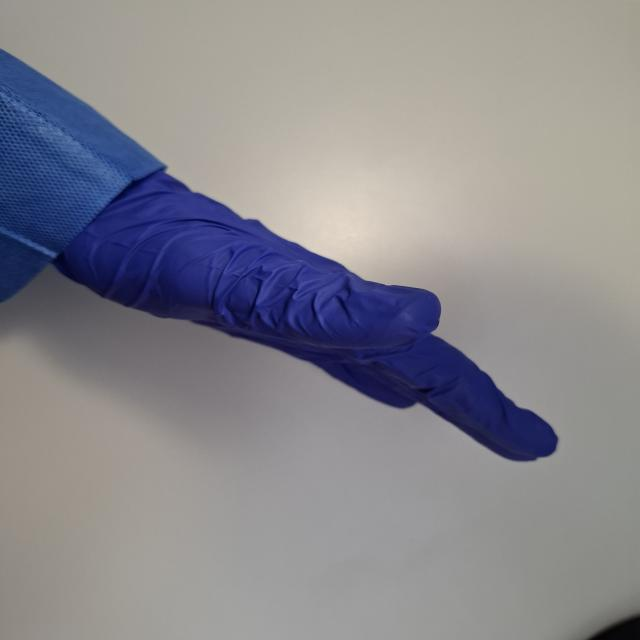glove_on: (46, 162, 562, 468)
